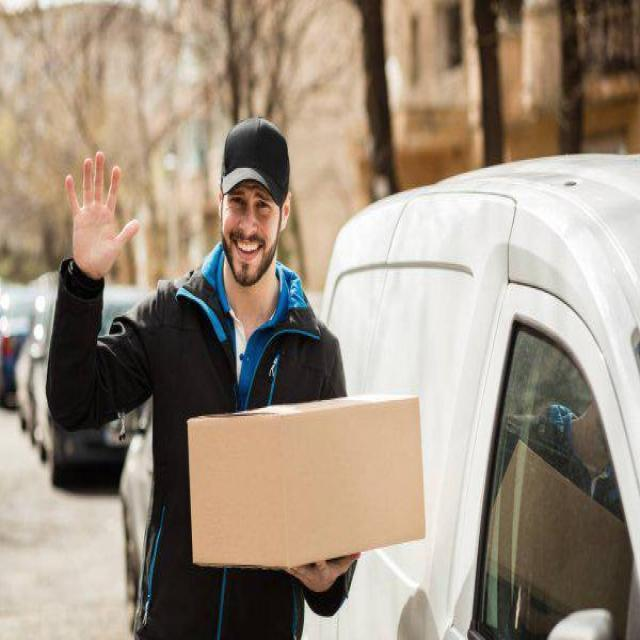box: (178, 375, 432, 584)
